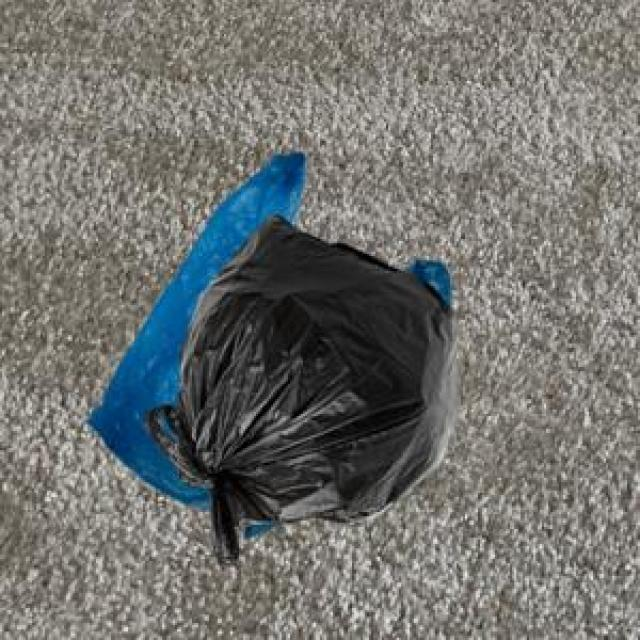miscellaneous trash: (141, 211, 454, 565)
